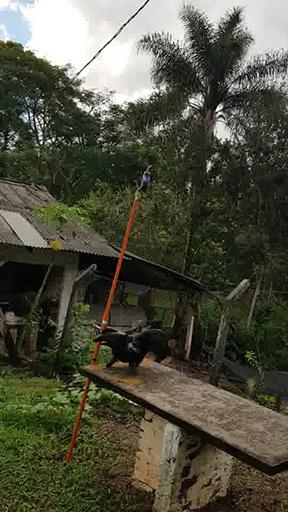Detector_Tensao_Contato: (140, 163, 153, 191)
Vara_Manobra: (65, 194, 139, 460)
